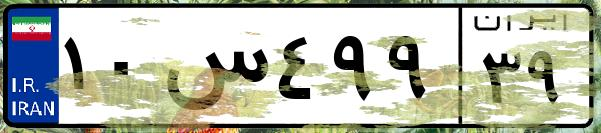0: (110, 28, 158, 98)
1: (57, 26, 110, 100)
3: (475, 38, 525, 113)
4: (270, 28, 330, 110)
9: (385, 28, 445, 110), (330, 28, 385, 110), (525, 38, 570, 115)
س: (158, 20, 270, 120)
